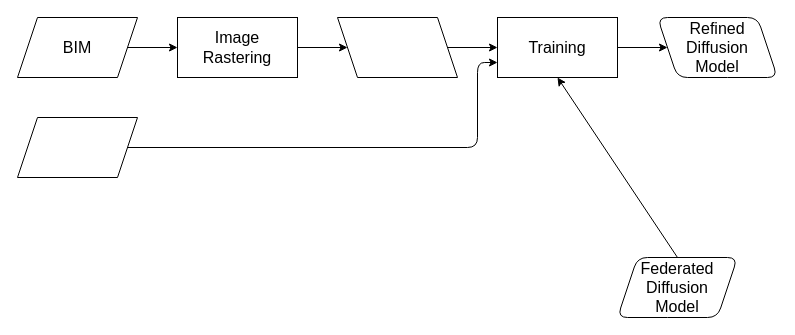
This 795x335 diagram has some shape labels left out. The centre of each missing label's shape, as x and y in pixels:
Binary Image: point 397,47
Text Query: point 77,147
